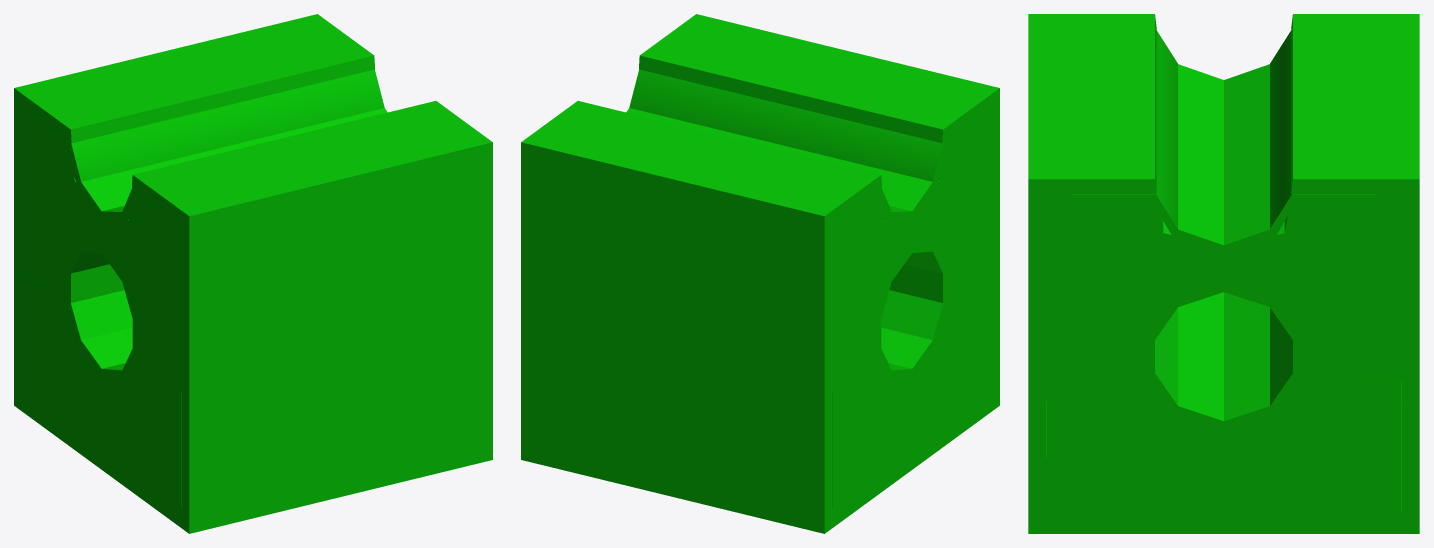
Rendered from UCXKugelbahn.02.fbx.
3 renders of one model, left to right at view 1: azimuth 30°, elevation 25°; view 2: azimuth 150°, elevation 25°; view 3: azimuth 270°, elevation 25°, orthographic. The views are drawn at different scales.
Visible parts, largest first — view 1: UCX_Kugelbahn.02_low; view 2: UCX_Kugelbahn.02_low; view 3: UCX_Kugelbahn.02_low.
Part boxes in pixels (box(x1,y1,x2,y2)): UCX_Kugelbahn.02_low: box(14, 14, 492, 533); UCX_Kugelbahn.02_low: box(521, 14, 999, 533); UCX_Kugelbahn.02_low: box(1028, 14, 1419, 533).
Bounding box in the file's own units: 0.05 × 0.05 × 0.05.
